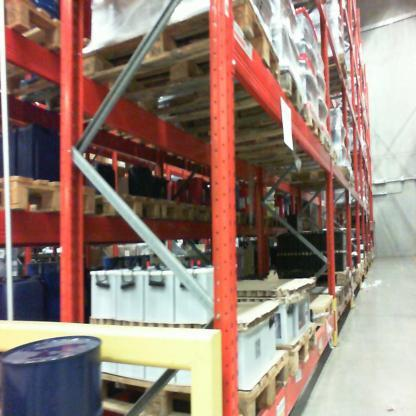pallets: (86, 1, 329, 189), (0, 175, 215, 224), (223, 323, 330, 415)
